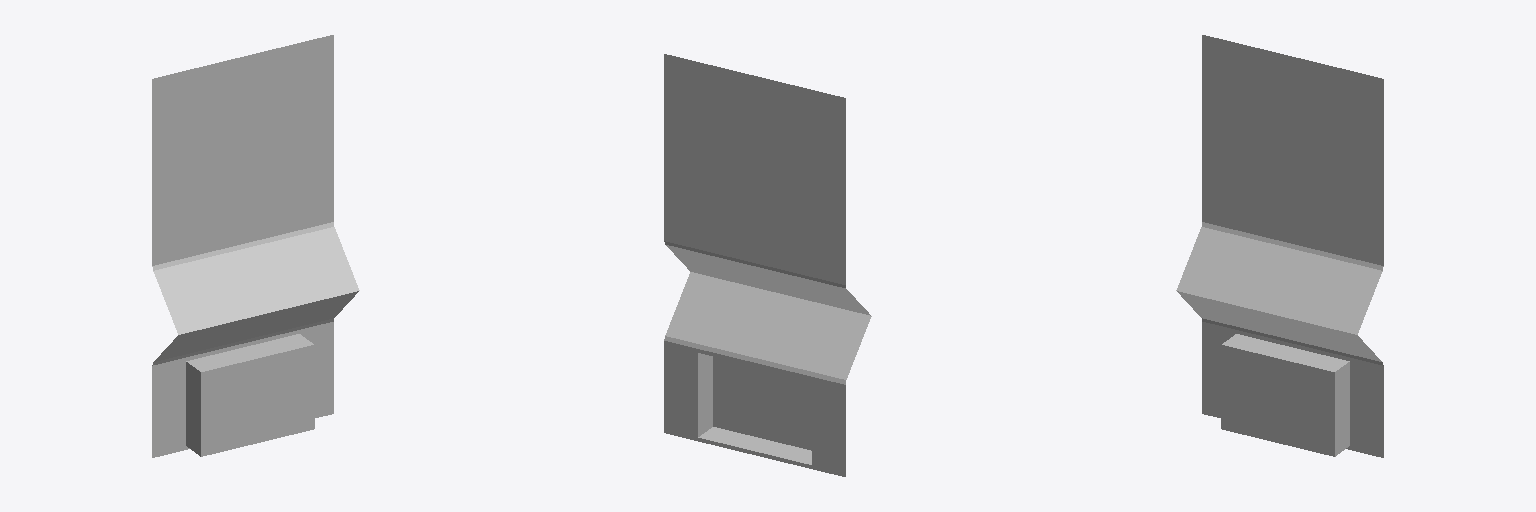
File: wall_trappe.obj
The picture shows the model from 3 angles: view 1: azimuth 30°, elevation 25°; view 2: azimuth 150°, elevation 25°; view 3: azimuth 330°, elevation 25°; orthographic projection.
Parts seen in each view (by area): view 1: Cube.016_Cube.020; view 2: Cube.016_Cube.020; view 3: Cube.016_Cube.020.
Boxes of the visible parts, x1=… form: Cube.016_Cube.020: x1=152, y1=35, x2=359, y2=457; Cube.016_Cube.020: x1=664, y1=54, x2=871, y2=476; Cube.016_Cube.020: x1=1176, y1=35, x2=1383, y2=457.
Bounding box in the file's own units: 4 × 8 × 1.